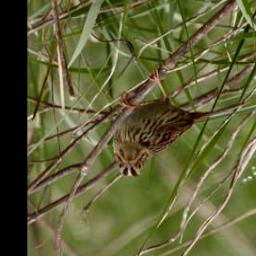Sparrow: (108, 65, 248, 178)
